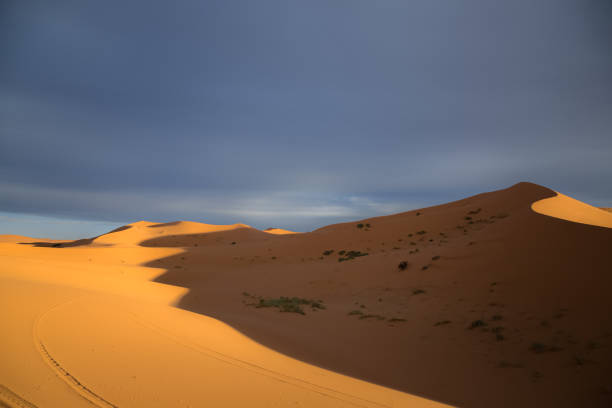vehicle_track: (130, 312, 391, 407), (33, 298, 117, 407), (0, 384, 36, 407)
